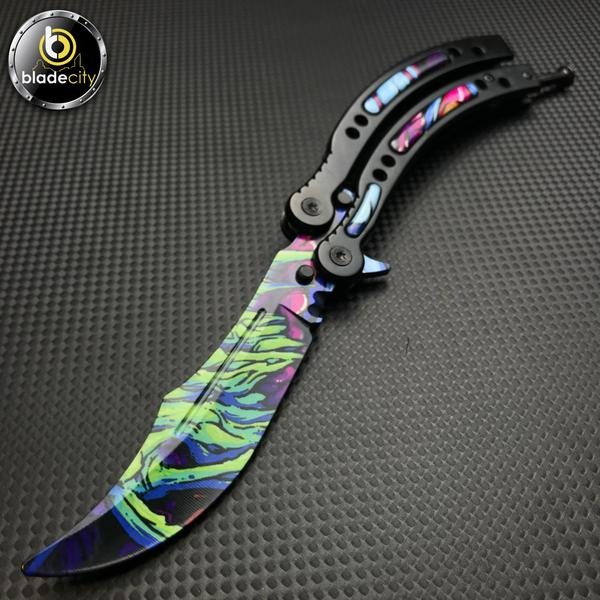knife: (22, 30, 587, 589)
